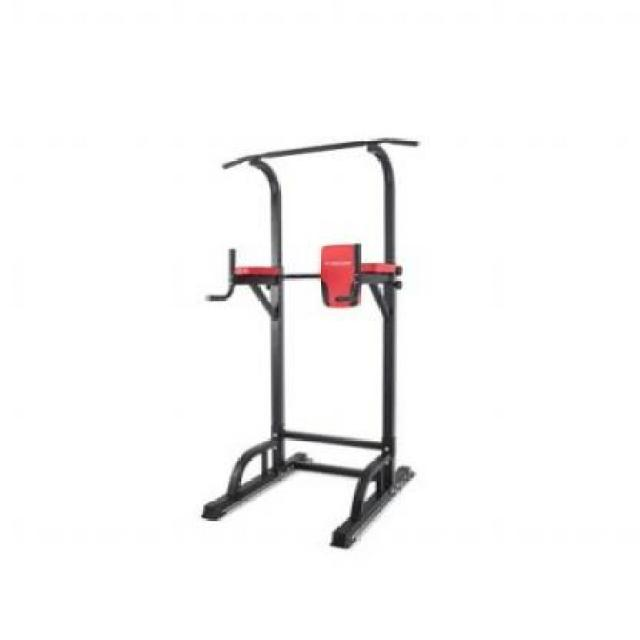chinning dipping: (202, 137, 420, 549)
